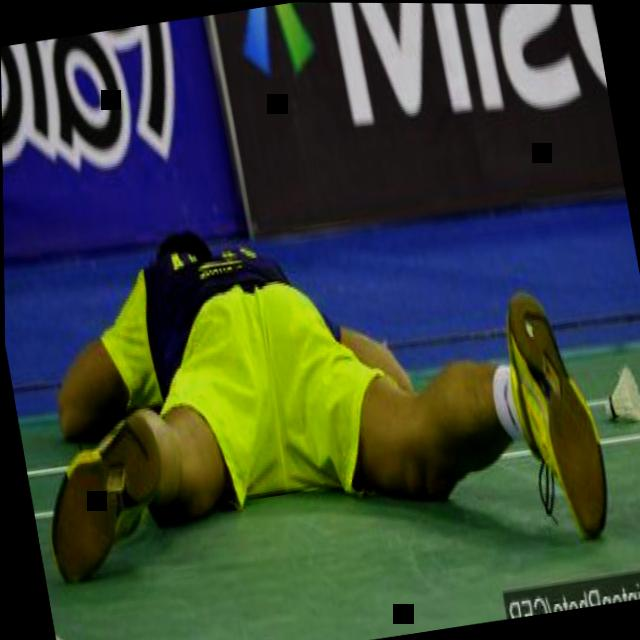Fall-Detected: (1, 90, 628, 626)
